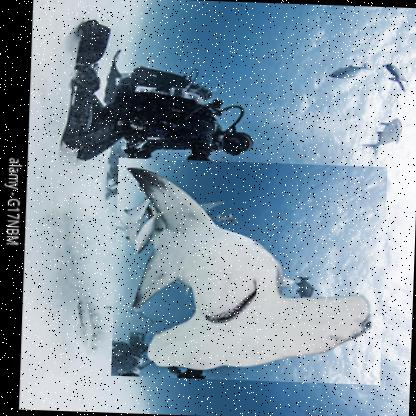hammerhead_Shark: (110, 157, 388, 385)
